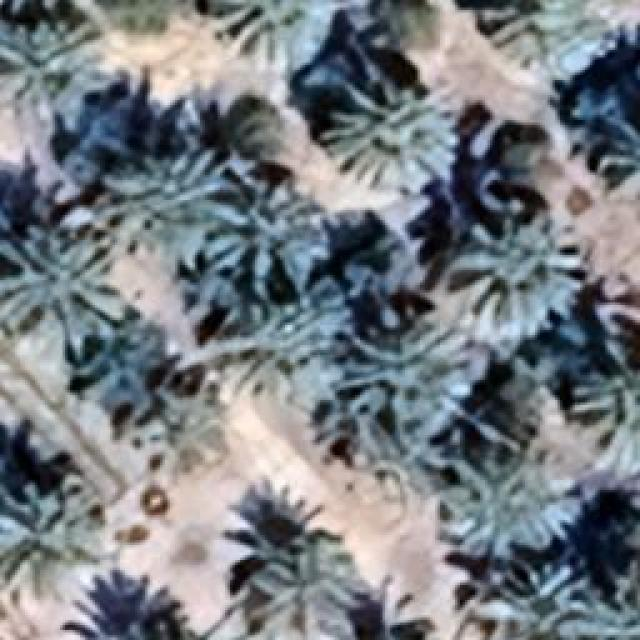PalmTree: (125, 58, 612, 598), (56, 83, 139, 609), (450, 210, 588, 355), (312, 60, 460, 195), (340, 310, 480, 440), (0, 222, 125, 360), (200, 178, 325, 292), (0, 482, 105, 610), (250, 534, 365, 638), (465, 0, 613, 80), (214, 296, 314, 402), (448, 462, 558, 558), (472, 558, 598, 638), (110, 146, 210, 246), (210, 0, 332, 80), (568, 352, 638, 470), (0, 19, 88, 112), (137, 395, 230, 483), (74, 320, 168, 392), (341, 216, 421, 299), (590, 48, 638, 184), (342, 0, 440, 65), (599, 98, 640, 211)
